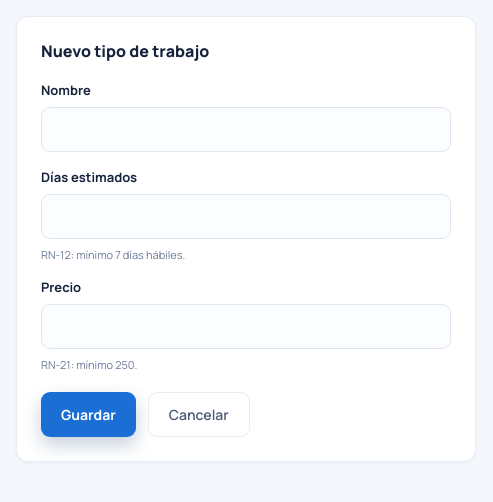
Test: TipoTrabajoFormulario — modo alta › nombre duplicado sin campo específico se muestra como error general
Type "PLACA ACTIVA" into the field labelled "Nombre" at (246, 130), box top-left (41, 107), bottom-right (451, 152)
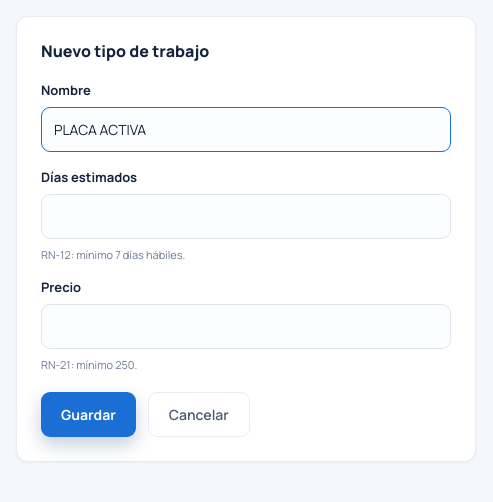
Type "7" into the number field labelled "Días estimados" at (246, 216), box top-left (41, 194), bottom-right (451, 239)
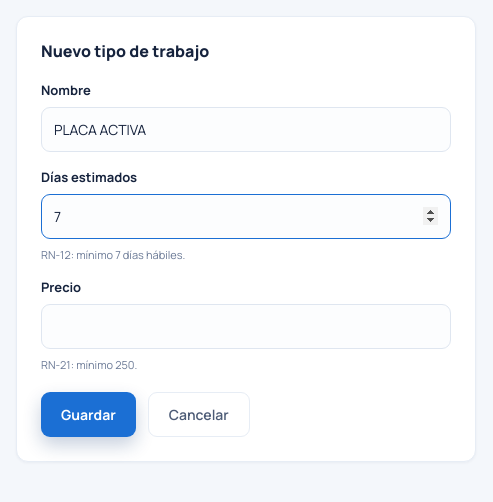
Type "250" into the number field labelled "Precio" at (246, 326), box top-left (41, 304), bottom-right (451, 349)
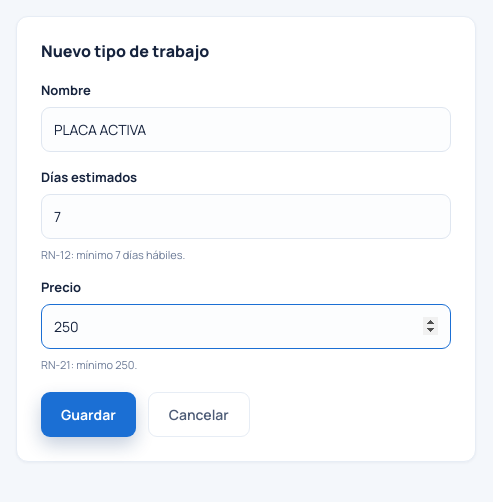
Click the button "Guardar" at (88, 414), box top-left (41, 392), bottom-right (136, 437)
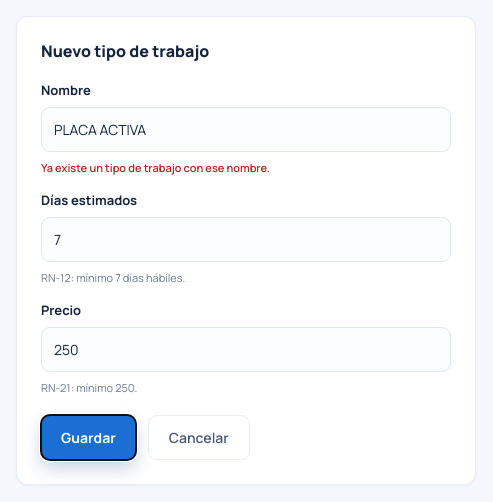
Expected: the text "Ya existe un tipo de trabajo con ese nombre." is shown, top-left (41, 160), bottom-right (270, 175)
